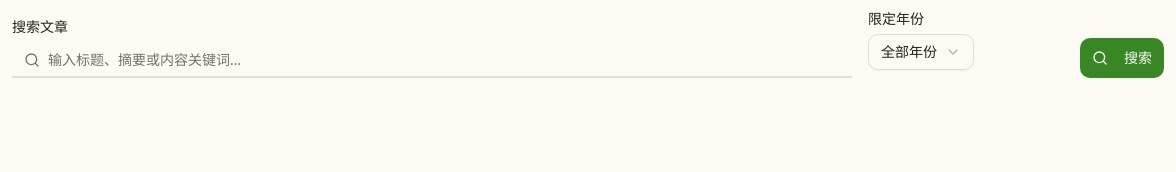
ArchiveSearch › 输入过短时显示错误提示并不触发请求
Type "a" into the field labelled "搜索文章". click: coordinates (432, 60)
box: [12,42,852,78]
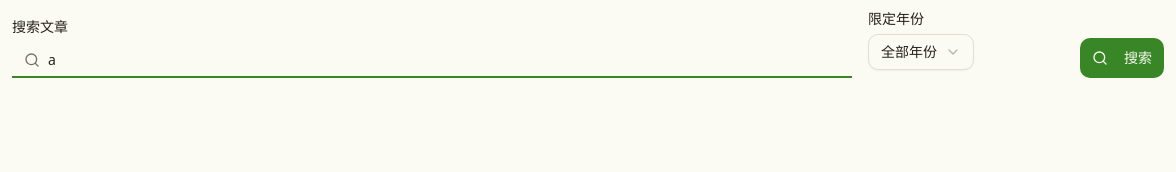
Click the button with aria-label "执行归档搜索". click: coordinates (1122, 58)
box: [1080,38,1164,78]
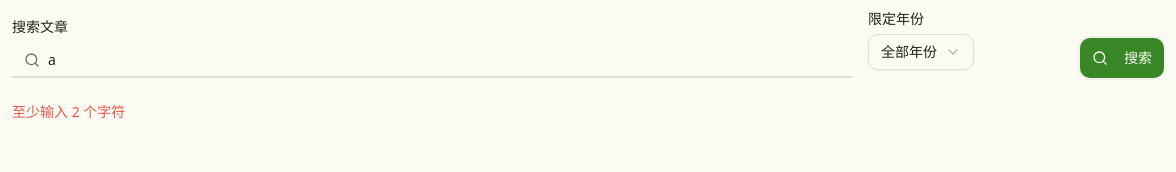
Check: the text "至少输入 2 个字符" is shown, box [12,102,125,121]
